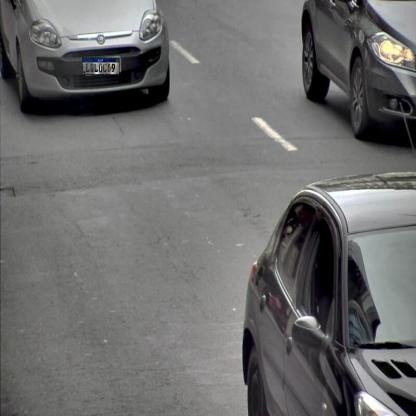PlacaM: (82, 57, 120, 75)
